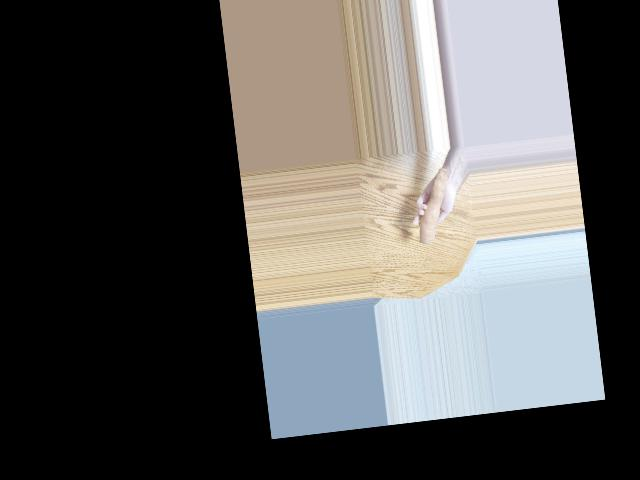sweet_potato: (409, 165, 457, 245)
